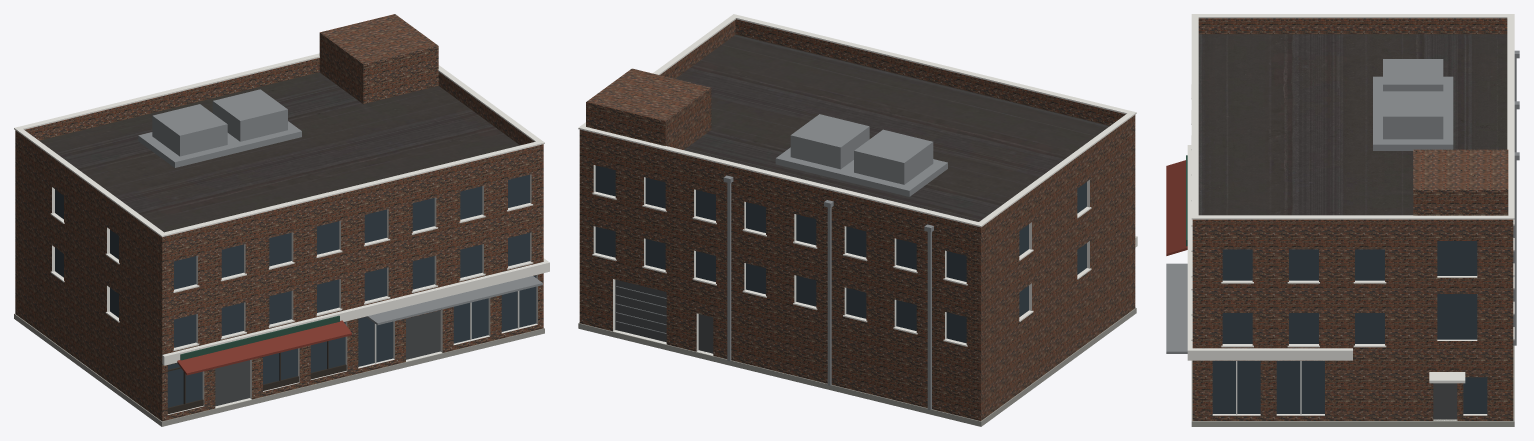
The model's file is m1-repaired.glb.
The picture shows the model from 3 angles, left to right: view 1: azimuth 30°, elevation 25°; view 2: azimuth 150°, elevation 25°; view 3: azimuth 270°, elevation 25°; orthographic projection. The views are drawn at different scales.
Parts seen in each view (by area): view 1: m1-repaired; view 2: m1-repaired; view 3: m1-repaired.
Boxes of the visible parts, x1,y1,x2,y2 form: m1-repaired: [14, 14, 549, 426]; m1-repaired: [578, 14, 1137, 426]; m1-repaired: [1166, 14, 1519, 426].
Bounding box in the file's own units: 25.06 × 12.9 × 17.6.
Materials: 11 (2 with a texture image).
